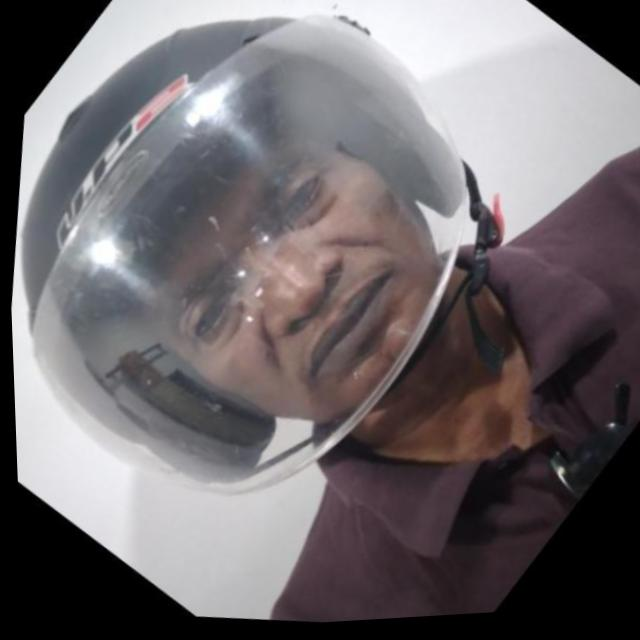WITH_HELMET: (0, 0, 600, 611)
